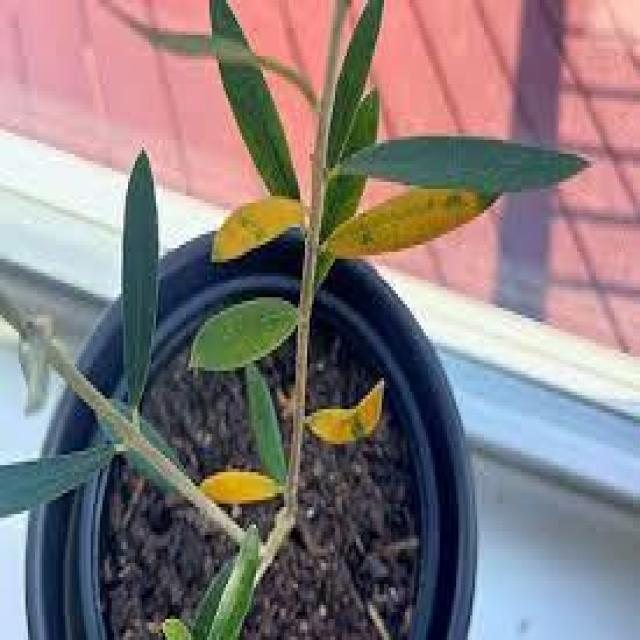Peacock Eye: (321, 189, 503, 258), (212, 196, 305, 259), (305, 379, 385, 445), (202, 471, 282, 505)
